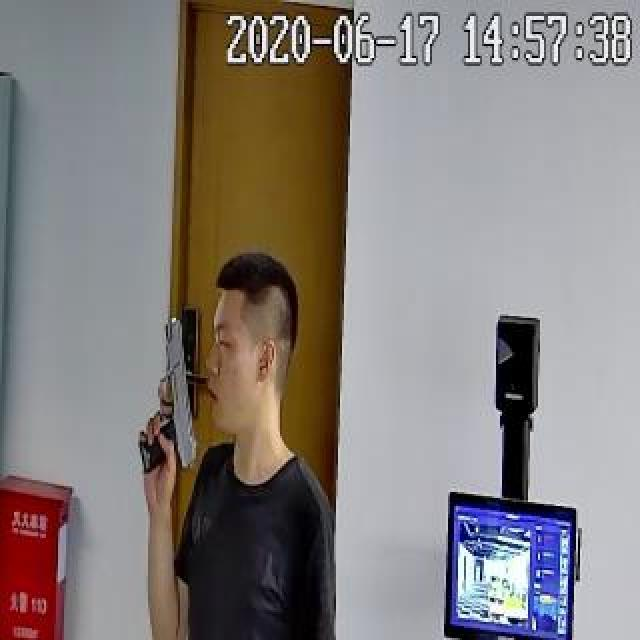Guns: (117, 313, 240, 490)
